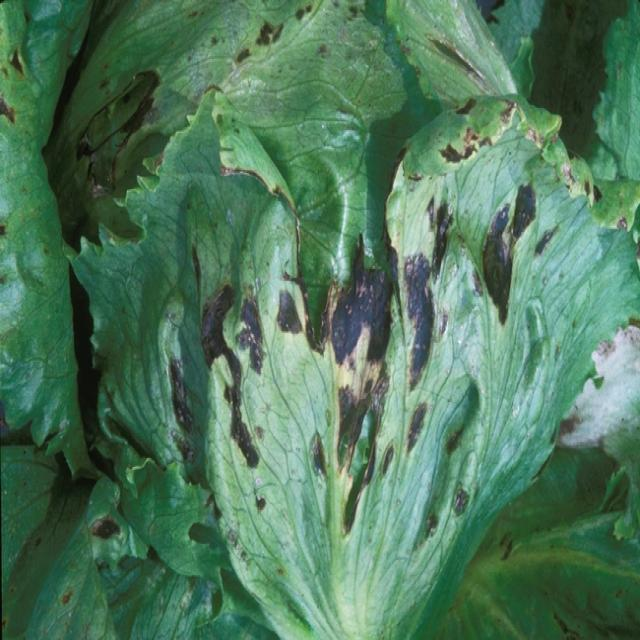Bacterial: (191, 136, 514, 539)
